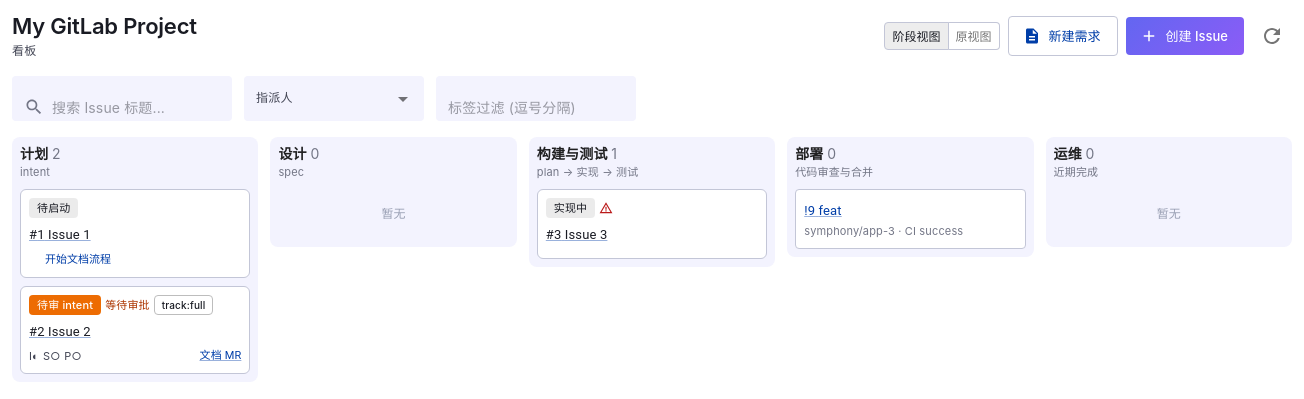
Test case: KanbanPage stage view › switches to the classic view, persists the choice and switches back
expect the element with test id "stage-col-plan" is shown: met, box top-left (12, 137), bottom-right (258, 382)
What coordinates should you click on to do the following:
click the button "原视图"
I would click on:
 (974, 36)
Its box is top-left (948, 22), bottom-right (1000, 50).
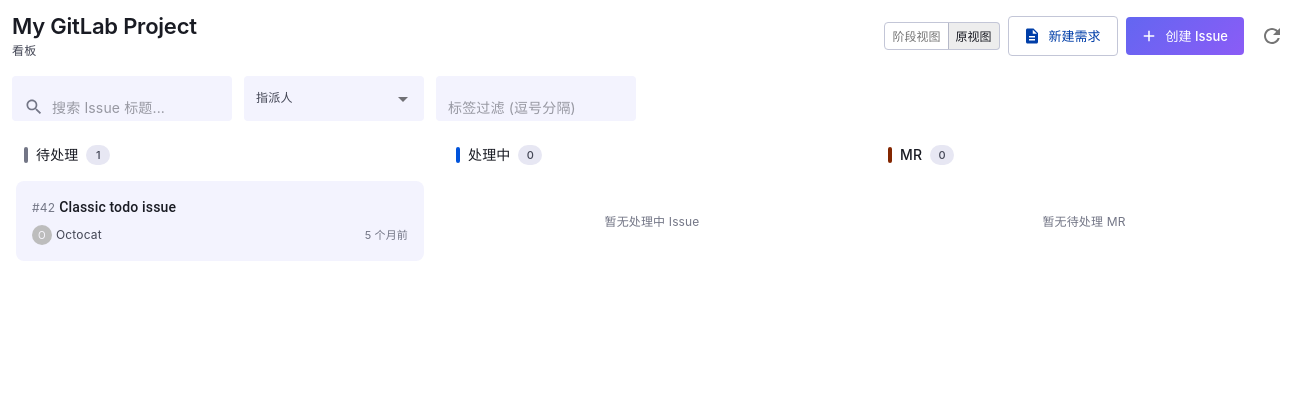
expect the link "#42Classic todo issue" is shown: met, box top-left (32, 199), bottom-right (176, 215)
expect the element with test id "stage-col-plan" is gone: met
What coordinates should you click on to do the following:
click the button "阶段视图"
I would click on:
 (916, 36)
Its box is top-left (884, 22), bottom-right (948, 50).
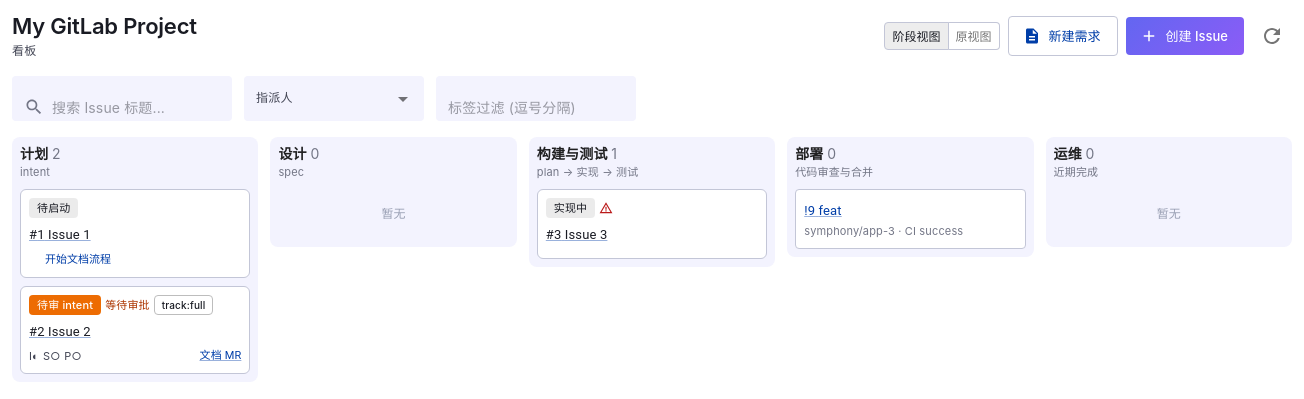
expect the element with test id "stage-col-plan" is shown: met, box top-left (12, 137), bottom-right (258, 382)
expect the link "Classic todo issue" is gone: met
